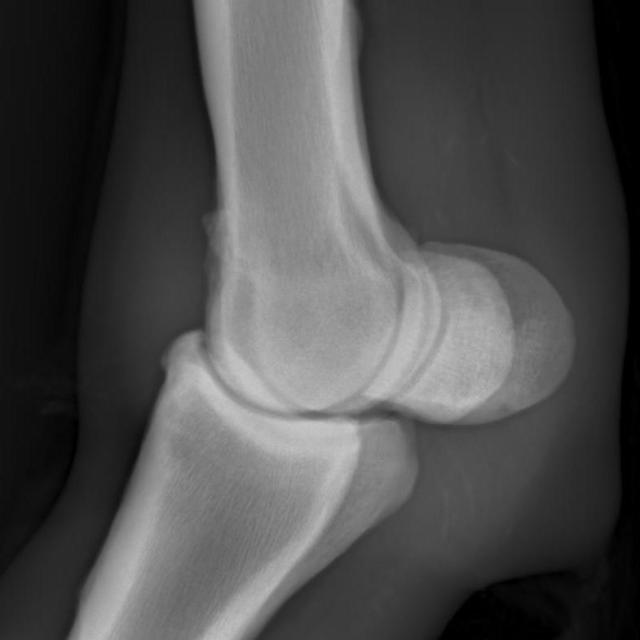bone remodeling: (125, 300, 214, 401)
